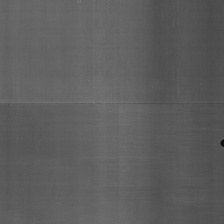punching_hole: (220, 137, 224, 147)
